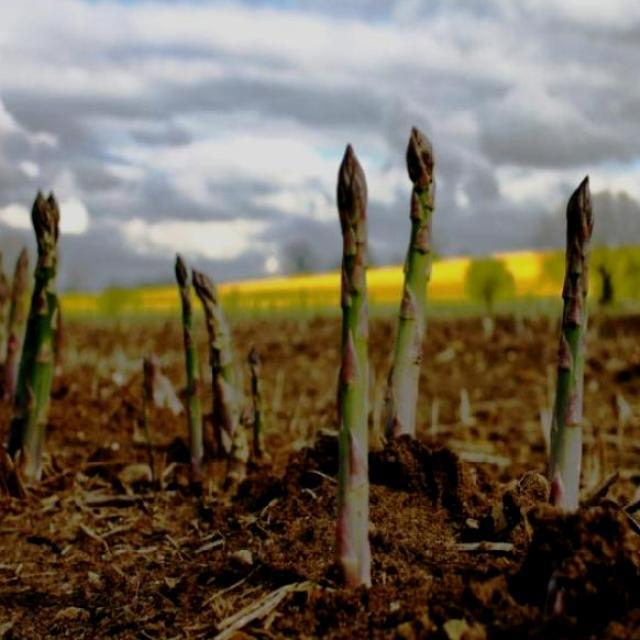aspargus: (336, 145, 371, 591), (550, 180, 595, 513), (388, 128, 435, 438)
